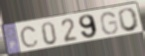0: (40, 21, 59, 46)
2: (60, 18, 80, 44)
9: (78, 14, 100, 41)
C: (19, 26, 40, 49)
G: (99, 11, 120, 36)
O: (117, 7, 141, 33)
